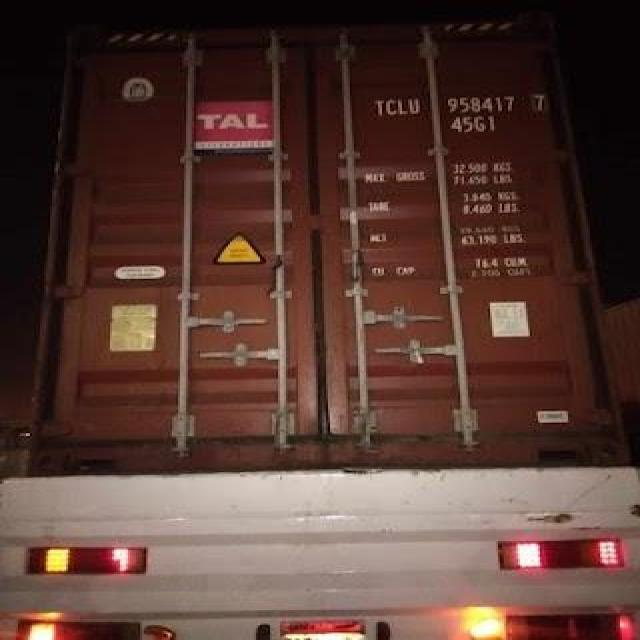ISO: (448, 112, 498, 134)
container_number: (377, 93, 542, 116)
